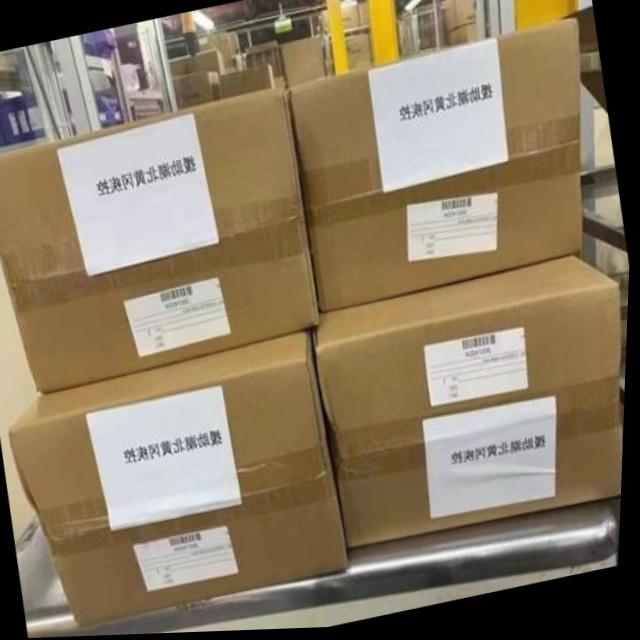box: (12, 332, 352, 628), (0, 87, 321, 393), (314, 260, 626, 551), (286, 24, 584, 314)
